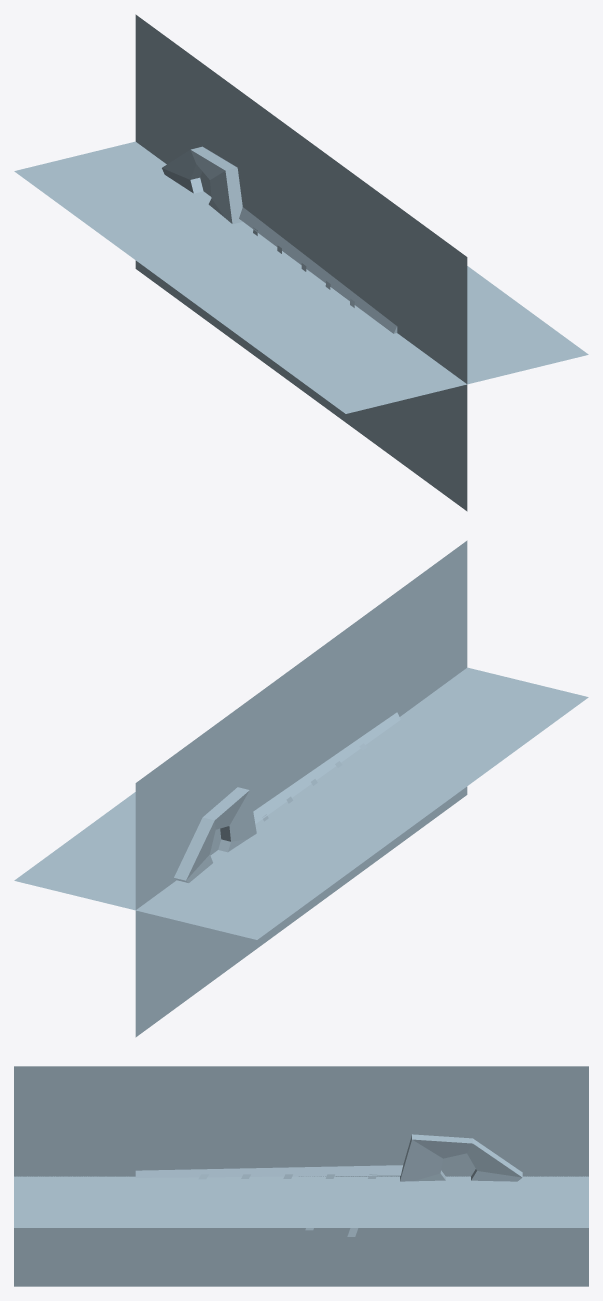
File: ghost_fish.glb
3 renders of one model, top to bottom at view 1: azimuth 30°, elevation 25°; view 2: azimuth 150°, elevation 25°; view 3: azimuth 270°, elevation 25°, orthographic. The views are drawn at different scales.
Parts seen in each view (by area): view 1: ghost_fish; view 2: ghost_fish; view 3: ghost_fish.
Part boxes in pixels (x1=…): ghost_fish: x1=14, y1=14, x2=588, y2=511; ghost_fish: x1=14, y1=540, x2=588, y2=1037; ghost_fish: x1=14, y1=1066, x2=588, y2=1286.
Bounding box in the file's own units: 0.22 × 0.22 × 0.52.
